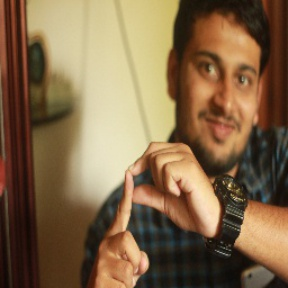P: (93, 139, 209, 284)
